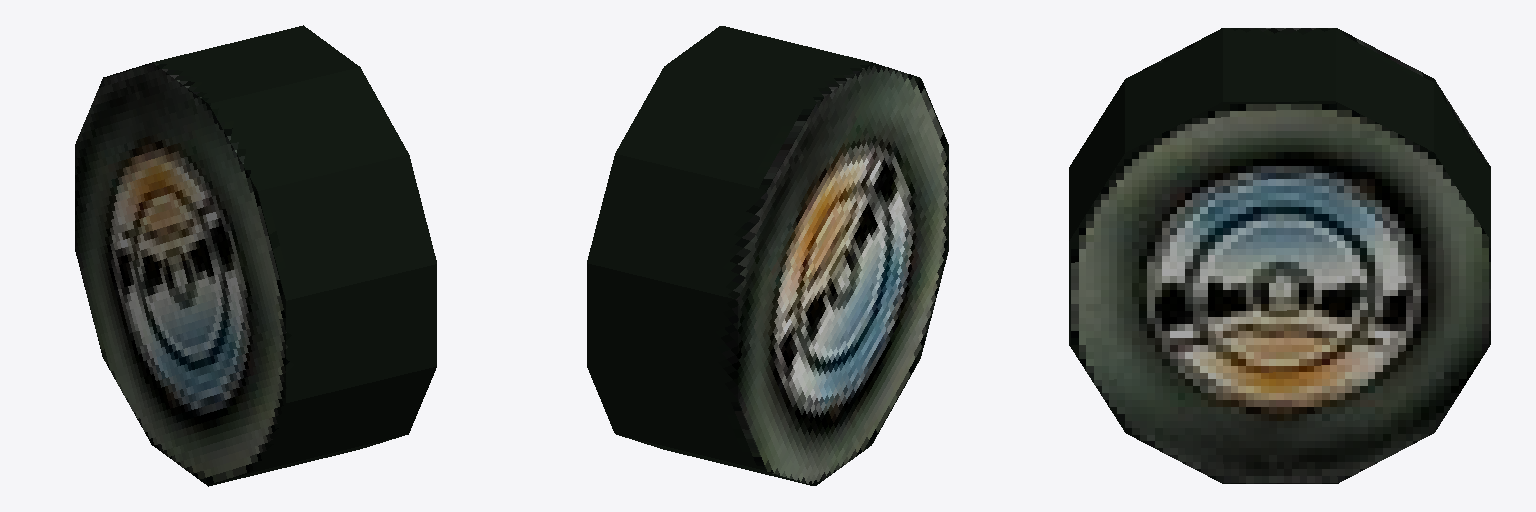
3 views of the same model, side by side, from view 1: azimuth 30°, elevation 25°; view 2: azimuth 150°, elevation 25°; view 3: azimuth 270°, elevation 25° (orthographic).
Parts seen in each view (by area): view 1: Plane.001; view 2: Plane.001; view 3: Plane.001.
Boxes of the visible parts, x1=… form: Plane.001: x1=75, y1=25, x2=436, y2=486; Plane.001: x1=587, y1=26, x2=948, y2=485; Plane.001: x1=1069, y1=28, x2=1490, y2=483.
Size of the model in its own units: 0.5479 by 1.32 by 1.32.
1 materials, 1 textured.